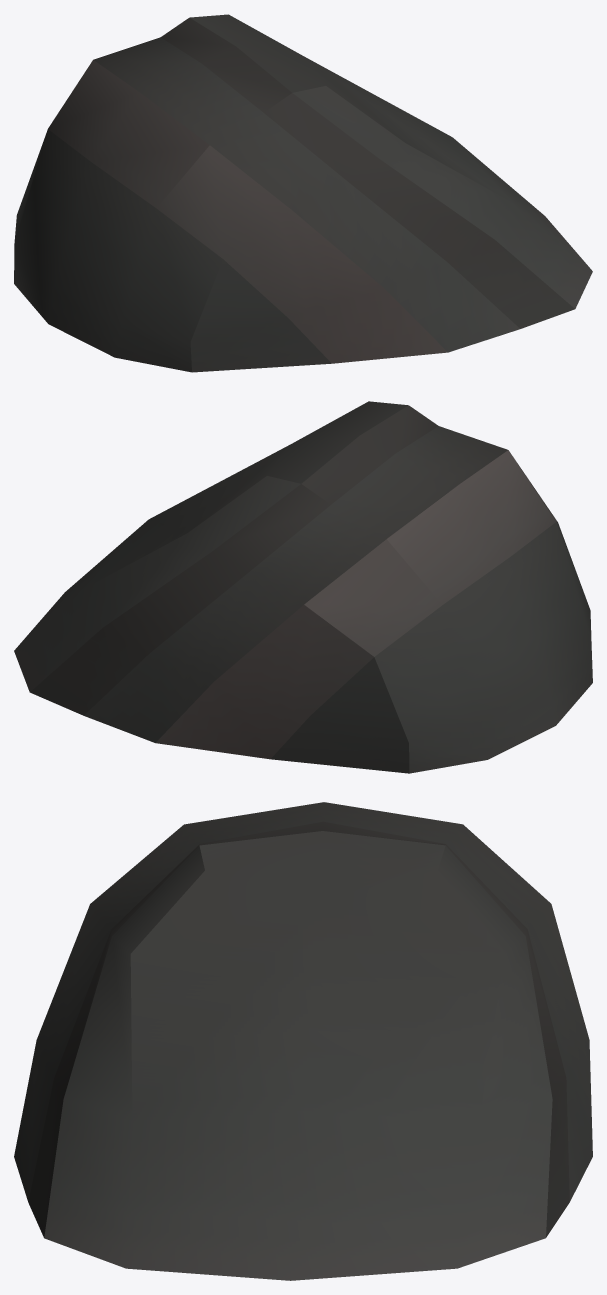
File: MixedBag6.fbx
3 renders of one model, top to bottom at view 1: azimuth 30°, elevation 25°; view 2: azimuth 150°, elevation 25°; view 3: azimuth 270°, elevation 25°, orthographic. The views are drawn at different scales.
Visible parts, largest first — view 1: MixedBag6_LOD0; view 2: MixedBag6_LOD0; view 3: MixedBag6_LOD0.
Part boxes in pixels (x1,y1,x2,y2): MixedBag6_LOD0: (14, 14, 592, 372); MixedBag6_LOD0: (14, 401, 592, 773); MixedBag6_LOD0: (14, 802, 592, 1280).
Size of what is drawn, in the model's own units: 1.81 by 0.8313 by 1.57.
